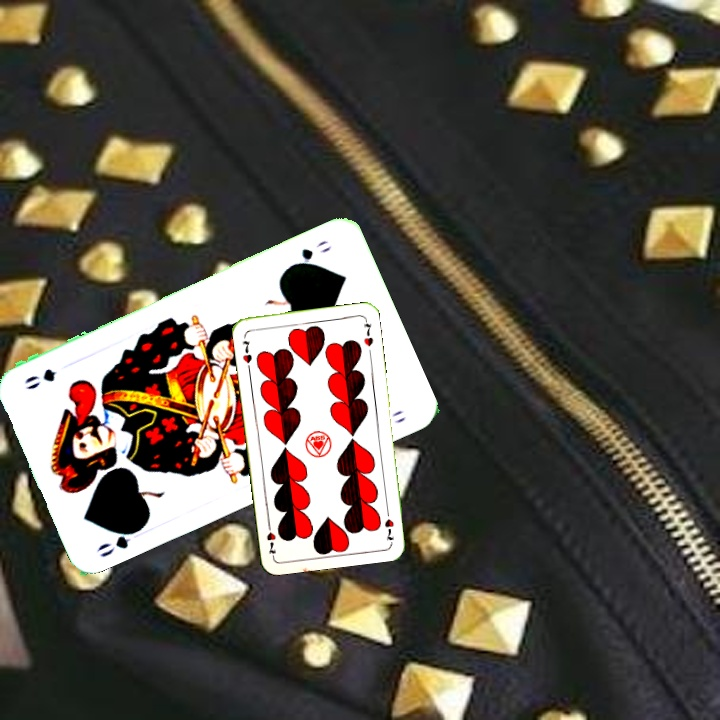GO: (93, 522, 147, 560), (284, 236, 335, 271)
H7: (381, 504, 397, 545), (238, 336, 255, 366)
